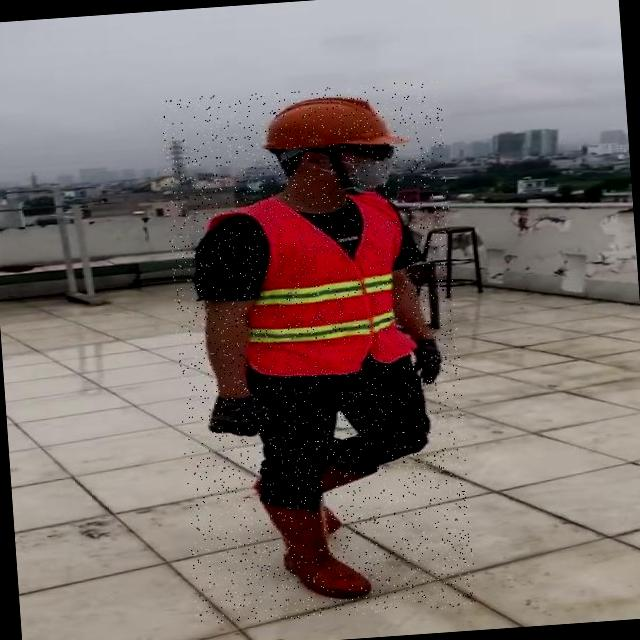boots: (260, 494, 376, 604)
gloves: (203, 395, 270, 440), (412, 334, 444, 384)
helmet: (251, 86, 408, 162)
vest: (238, 186, 416, 379)
